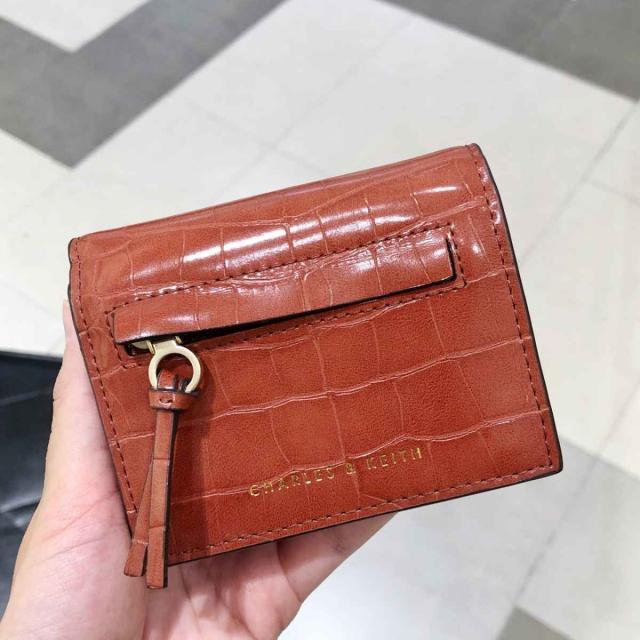handbag: (72, 147, 574, 558)
